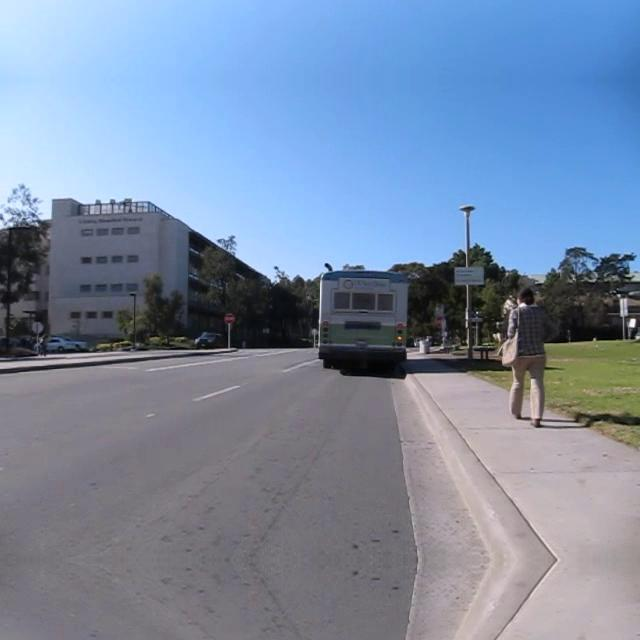stop: (433, 314, 445, 328), (222, 312, 234, 324)
